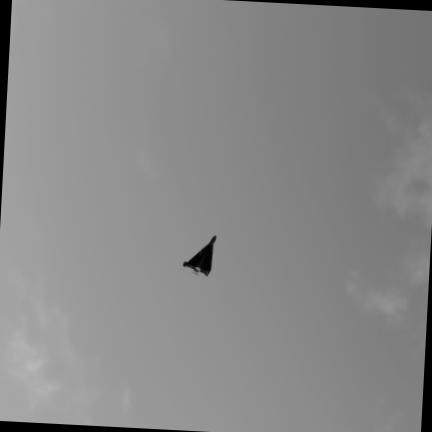Shahed: (183, 236, 215, 275)
